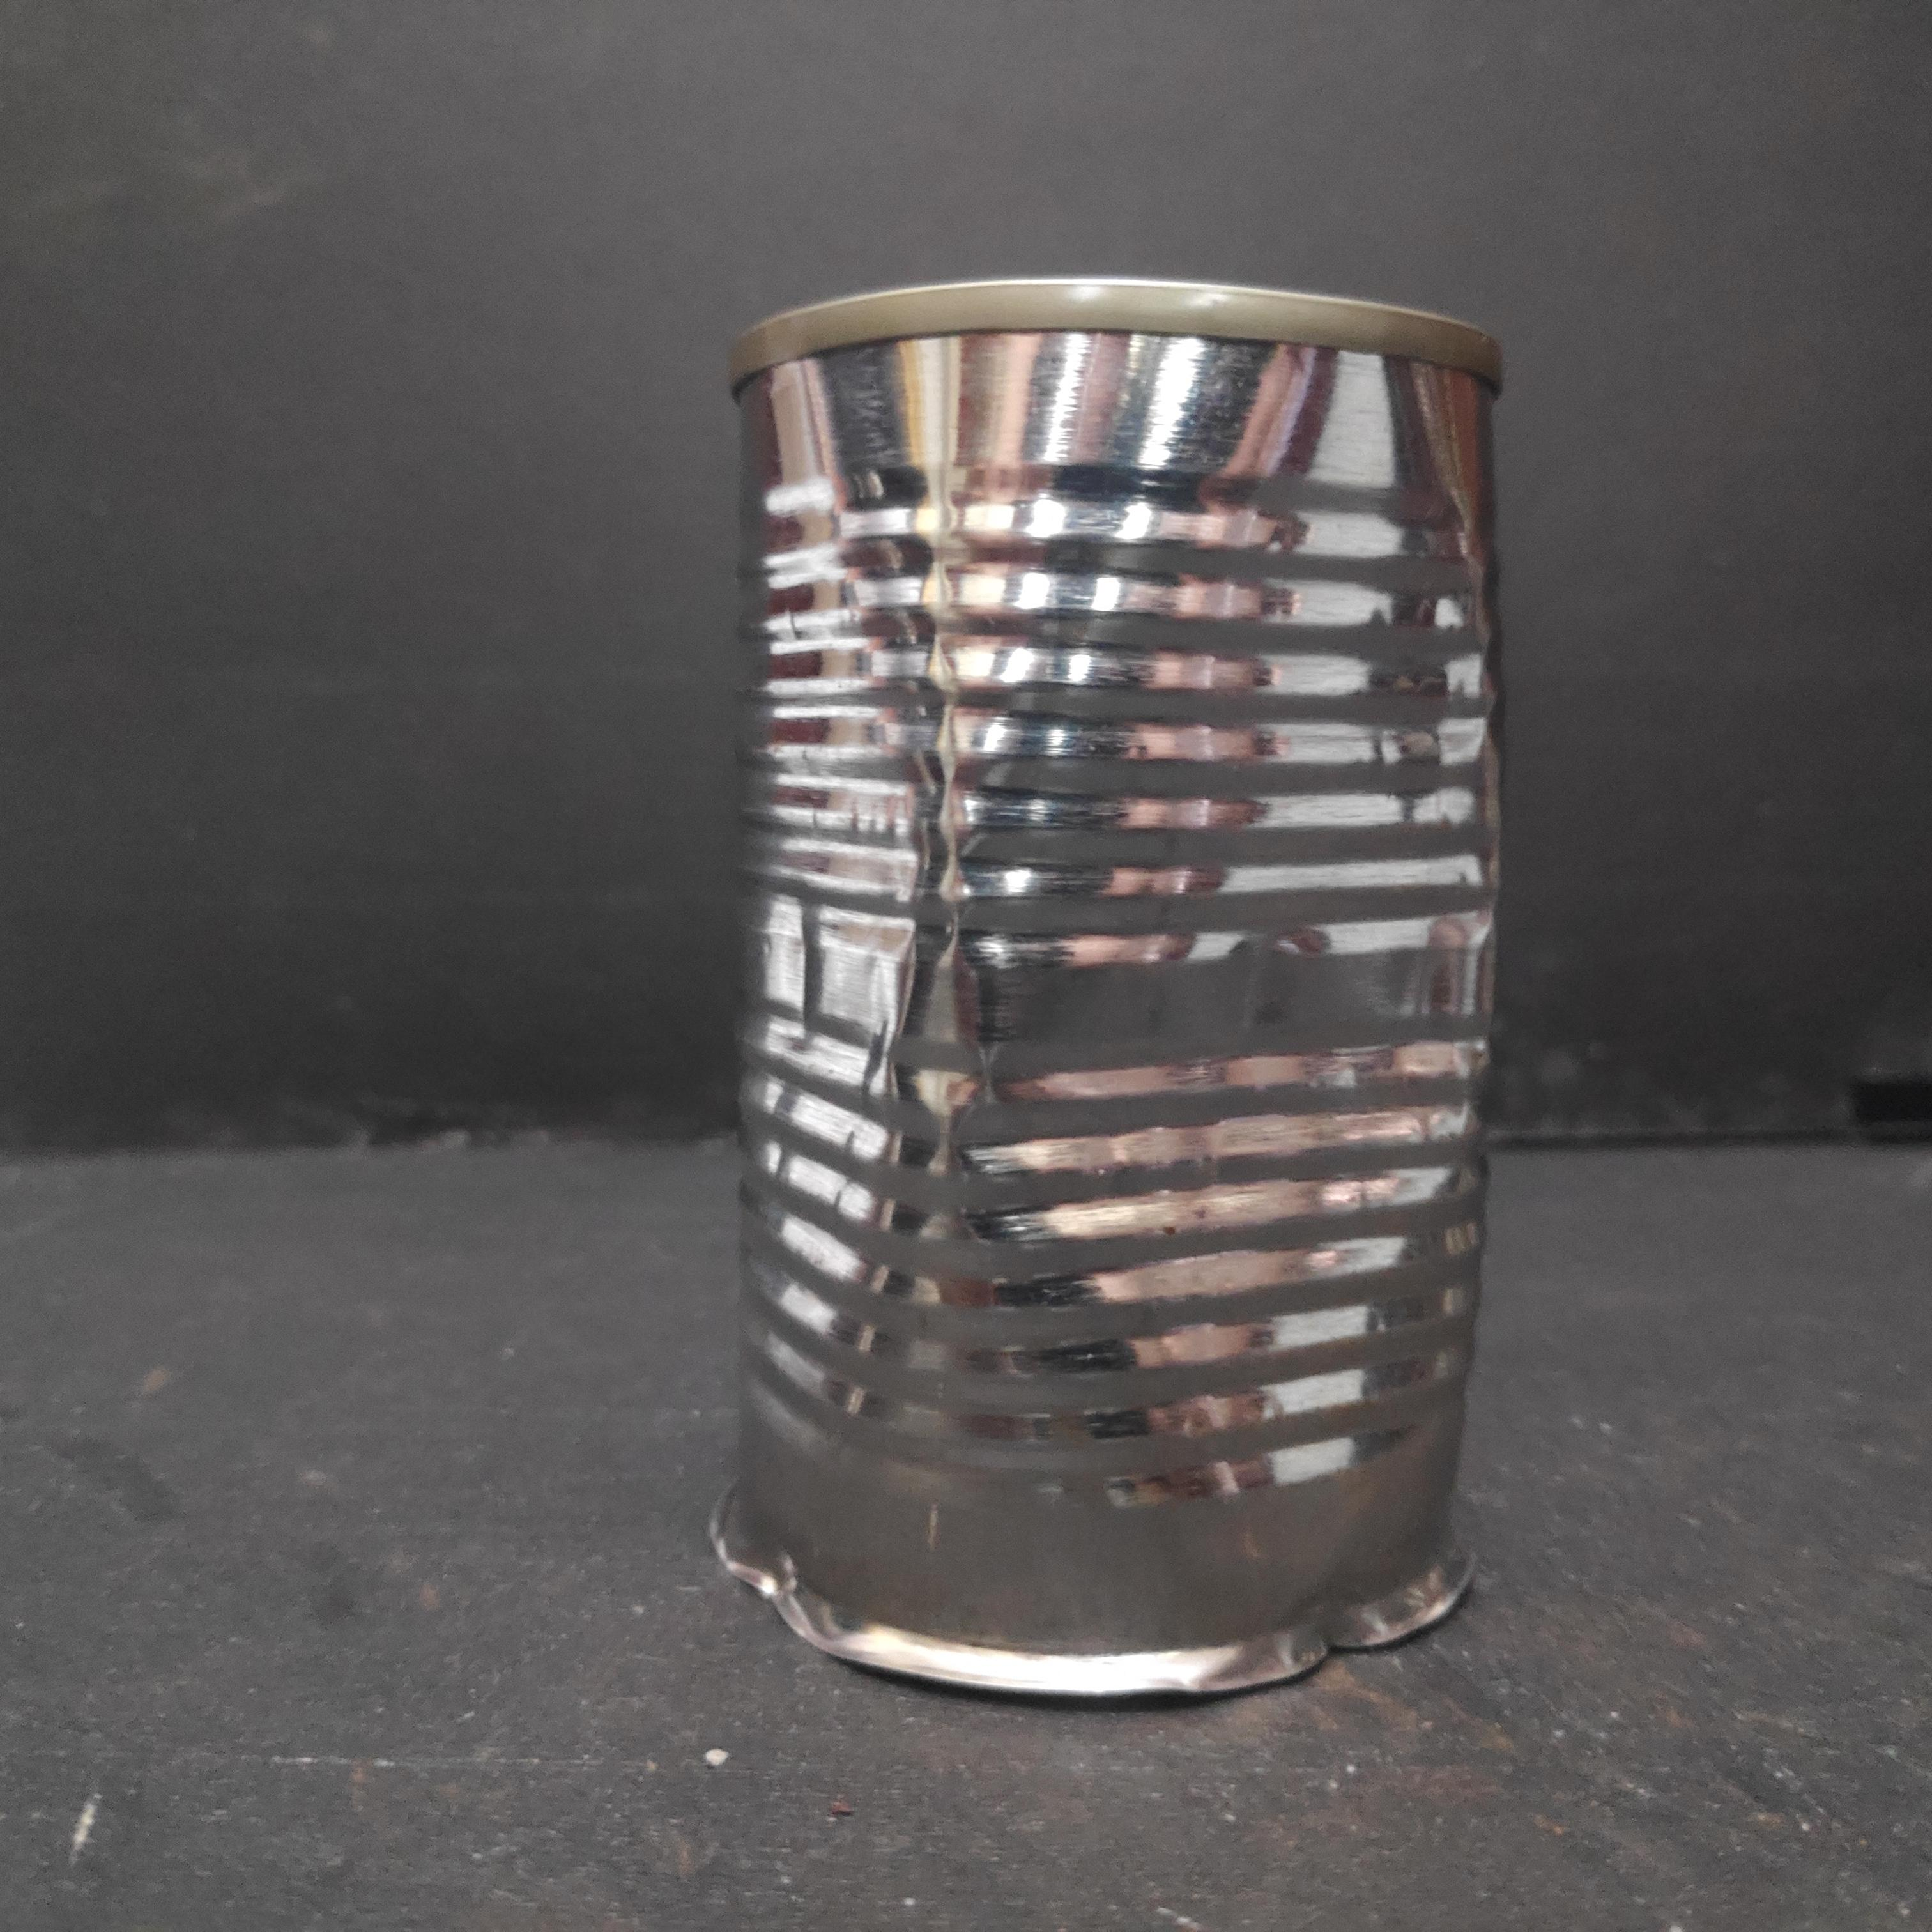Minor Defect: (709, 260, 1527, 1713)
